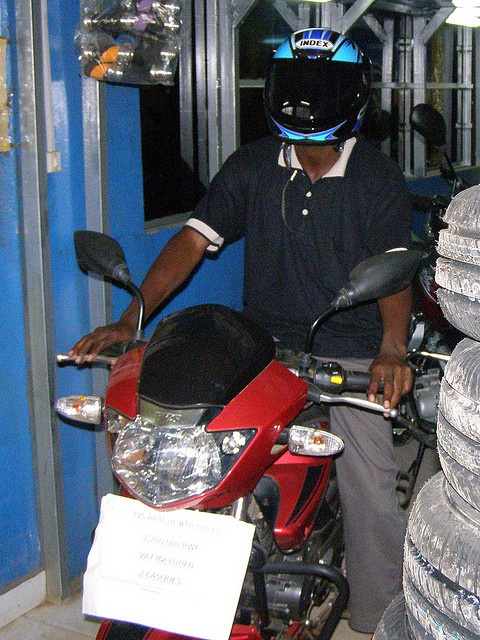non-vehicle: (54, 227, 434, 640), (394, 101, 469, 507)
